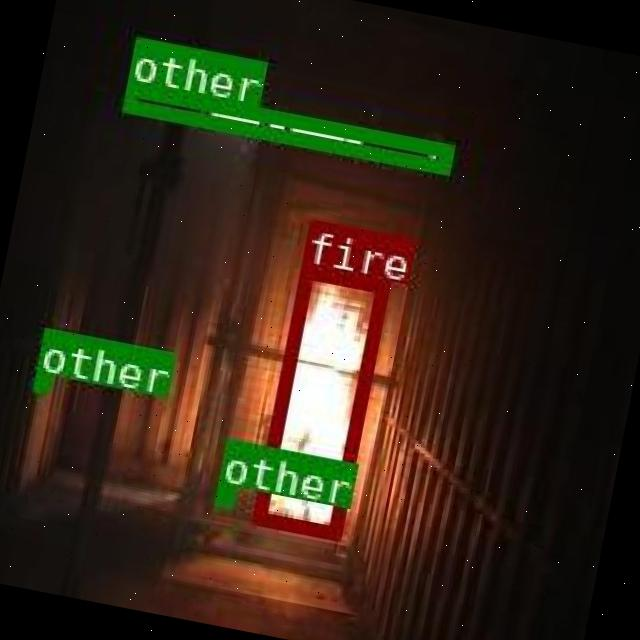fire: (250, 262, 388, 538)
